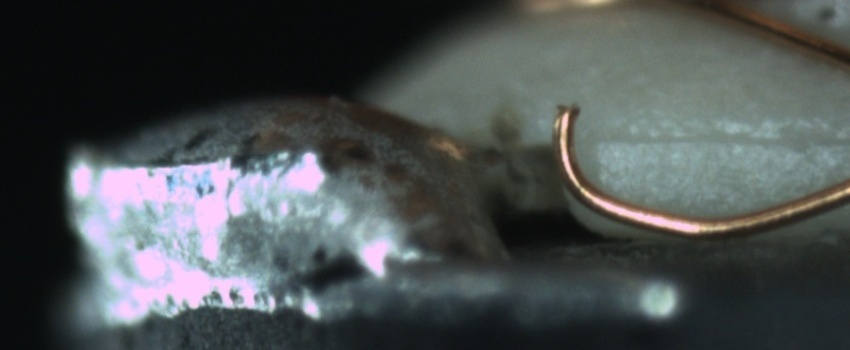DL: (597, 108, 849, 172)
